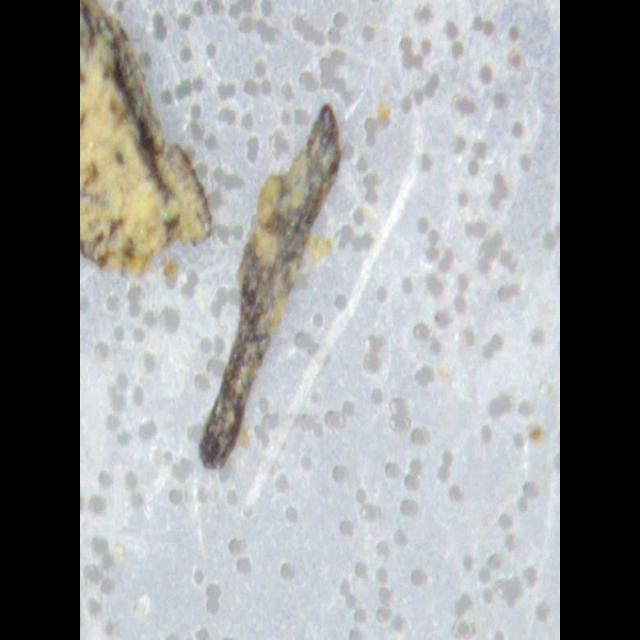Fibre: (198, 102, 342, 470)
